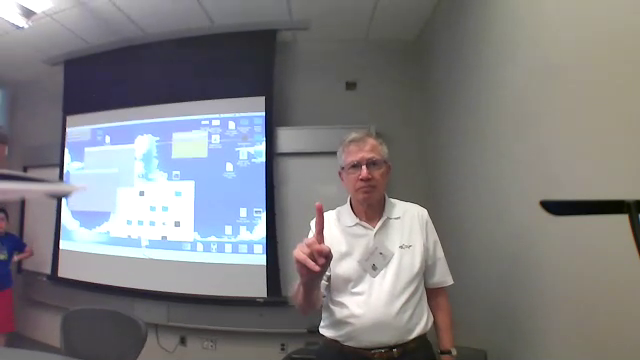up: (284, 201, 337, 284)
